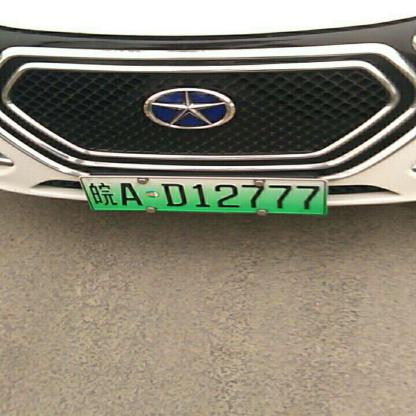lp: (80, 176, 326, 214)
